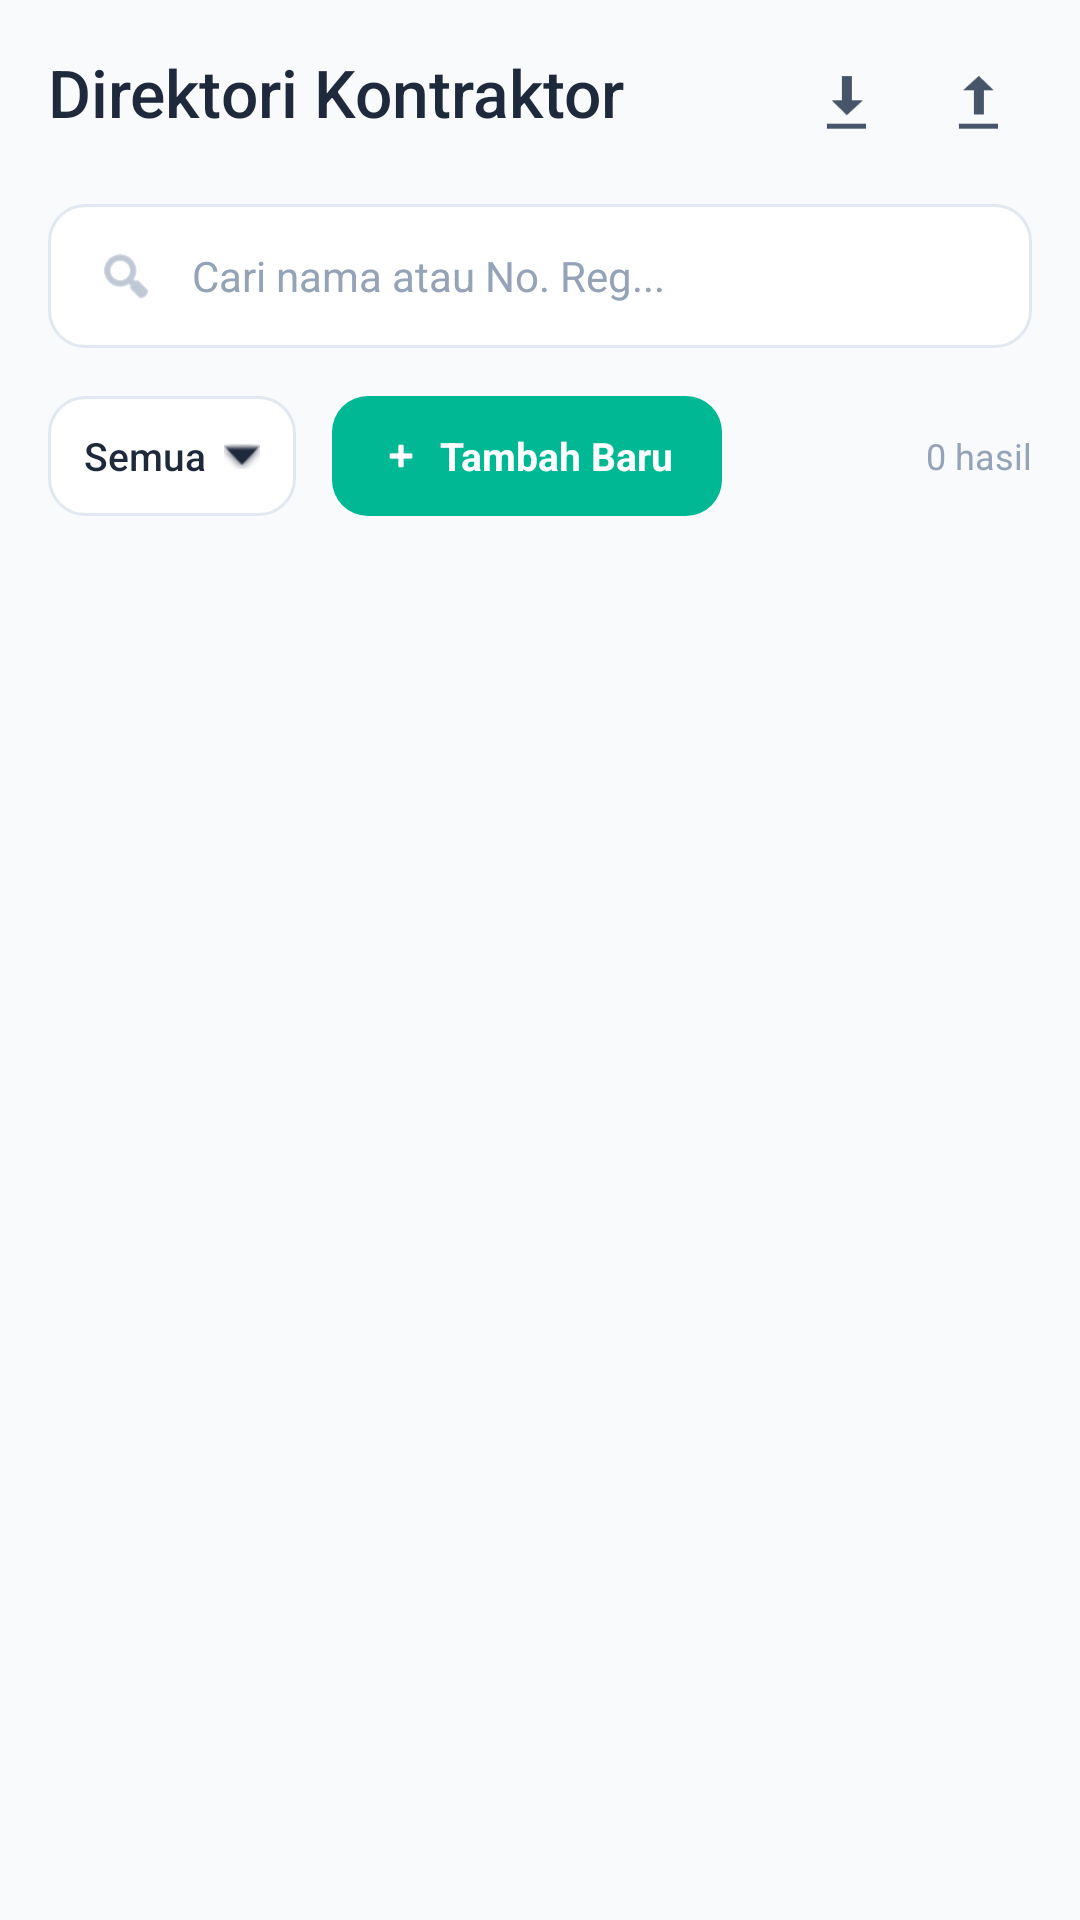

Icon bounding boxes for this 1080 x 1920 phone screenshot, format [left=x1, top=y1, right=x2, bottom=y2]:
add: [left=389, top=444, right=413, bottom=468]
arrow down float: [left=224, top=444, right=260, bottom=468]
Export: [left=959, top=76, right=998, bottom=129]
Import: [left=827, top=76, right=866, bottom=129]
search: [left=104, top=254, right=148, bottom=298]
